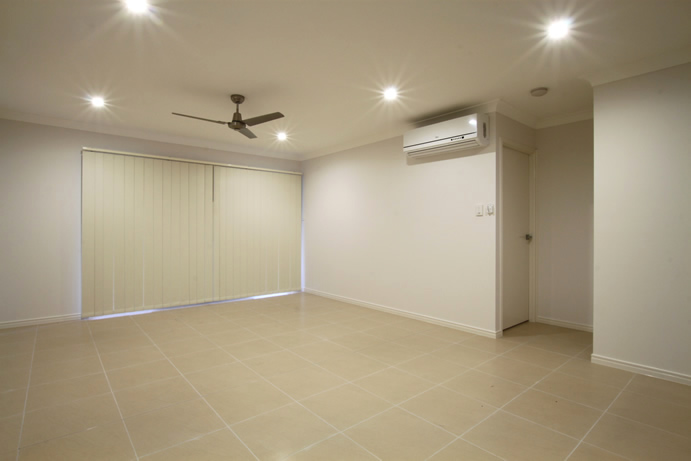ceiling fan: (165, 87, 294, 149)
